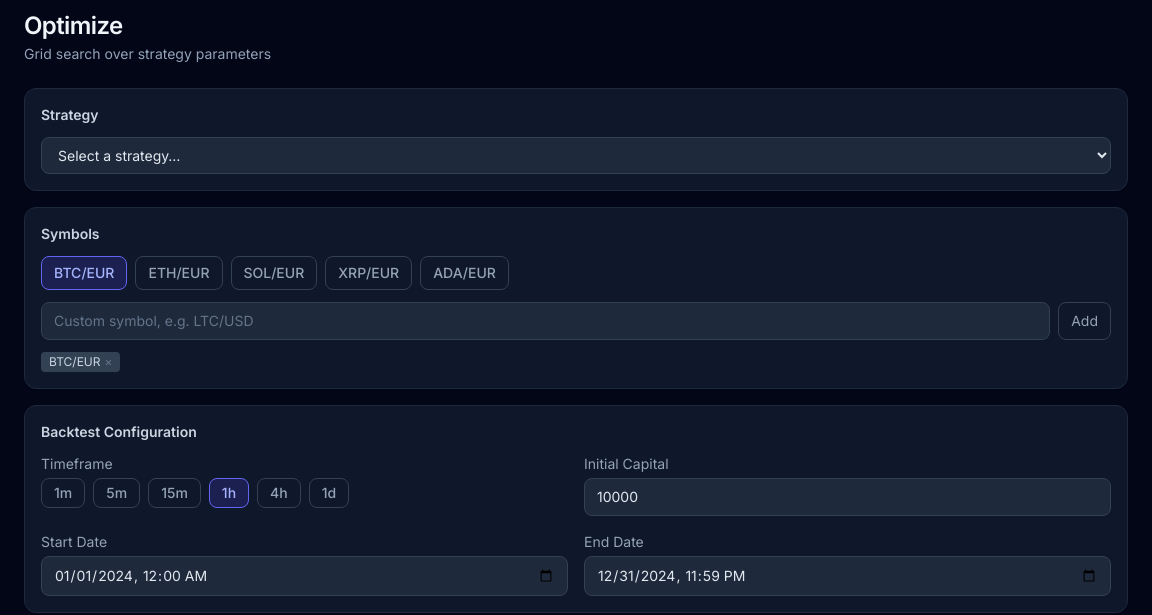
OptimizePage — structured 422 rendering (CF-13a-1 item 2) › renders invalid_exit_config with combo_index-scoped errors and total_invalid
The width and height of the screenshot is (1152, 615).
Select "momentum_breakout" in the 1st dropdown at (576, 156), box 41,137 -> 1111,174
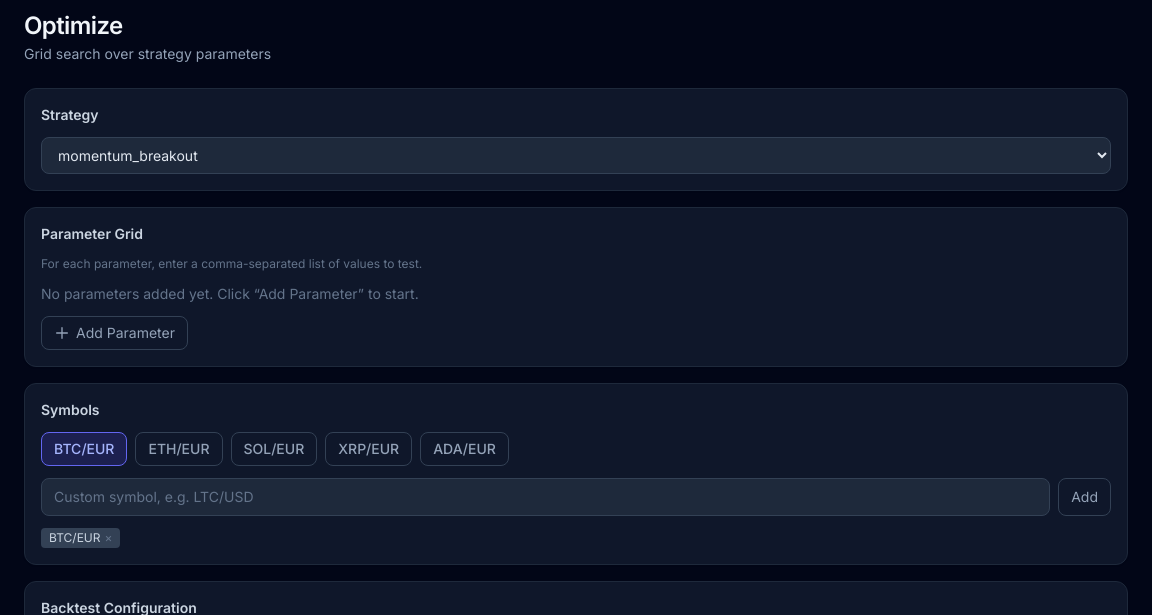
Now the button "Add Parameter" is enabled
Click the button "Add Parameter".
click(114, 333)  # box 41,316 -> 188,350
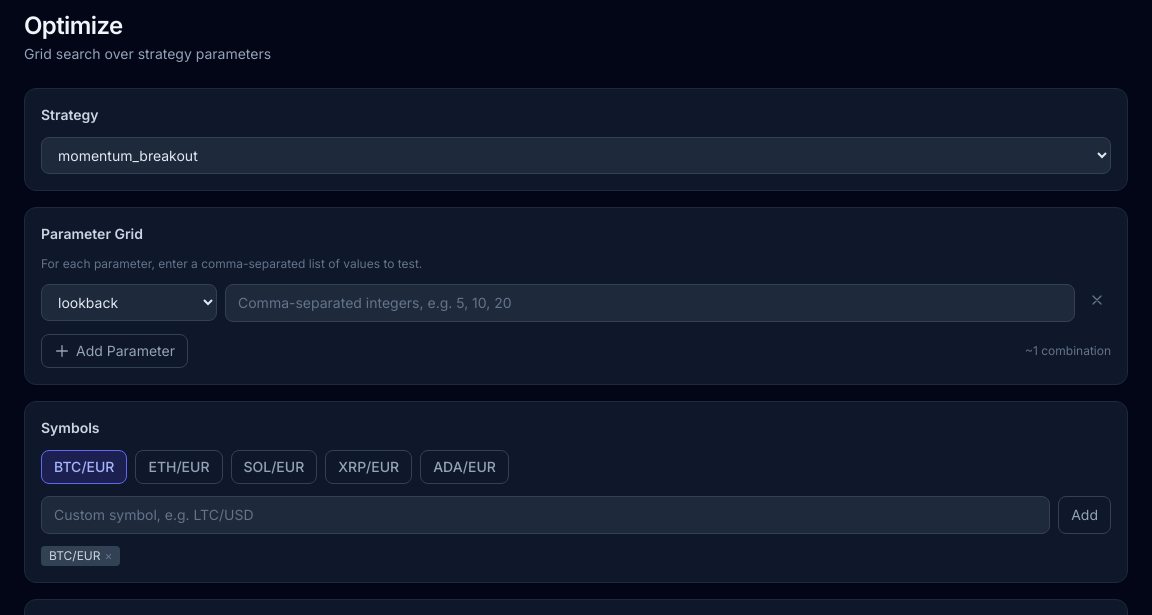
Type "5, 10" into the field with placeholder "Comma-separated integers, e.g. 5, 10, 20".
click(650, 303); type("5, 10")  # box 225,284 -> 1075,322
(page scrolled)
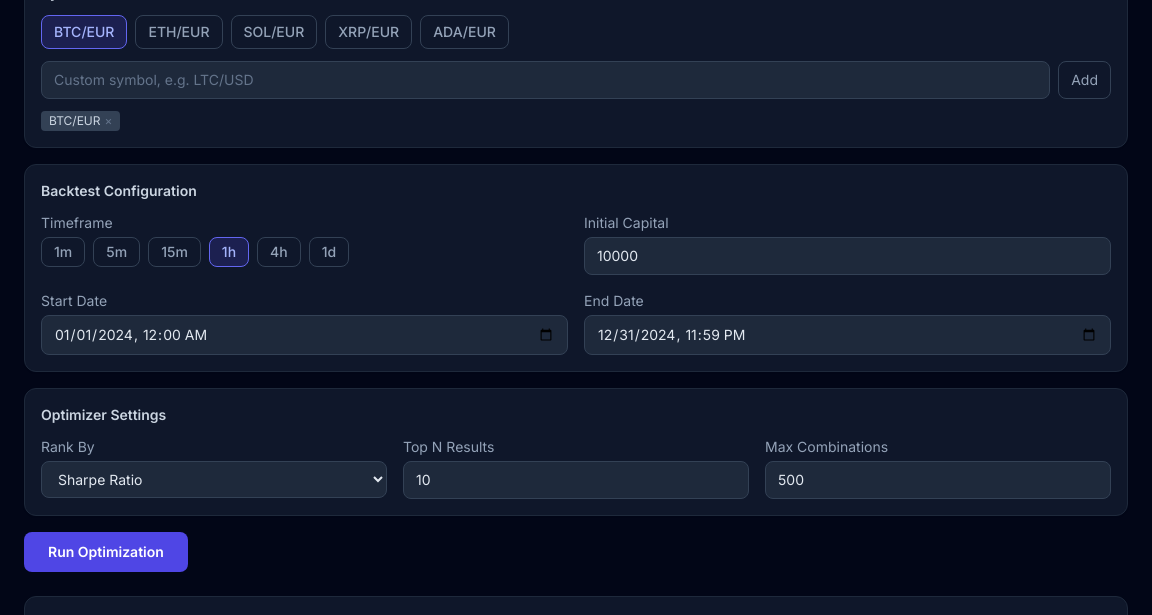
Click the button "Run Optimization".
click(106, 552)  # box 24,532 -> 188,572
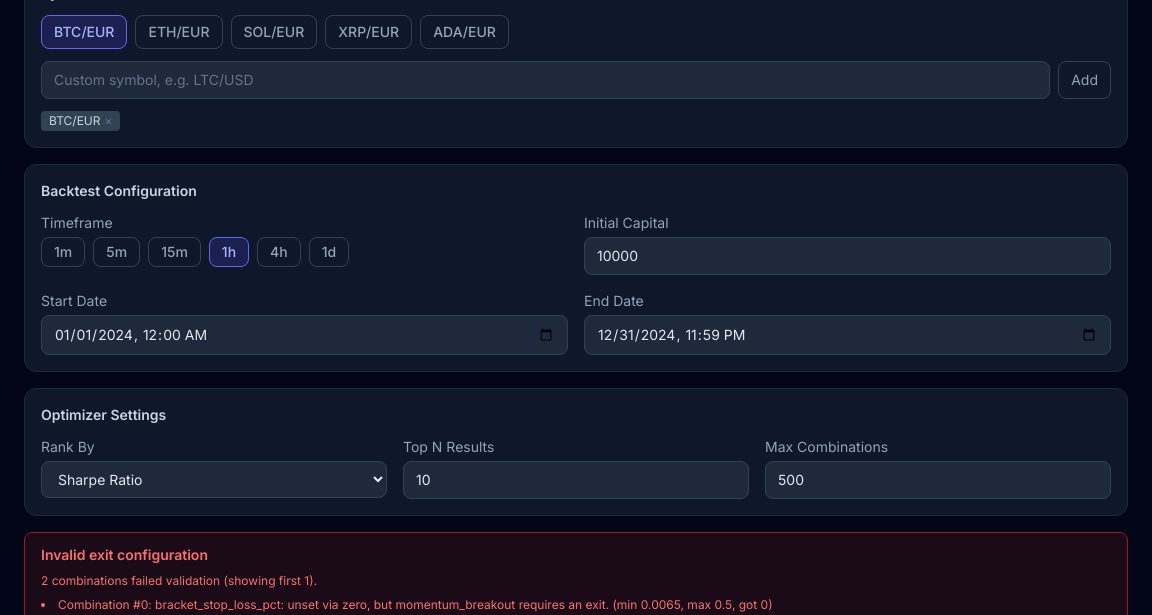
Now the text "Invalid exit configuration" is shown, box 41,546 -> 208,563
Now the text "2 combinations failed validation (showing first 1)." is shown, box 41,573 -> 317,588
Now the list item "Combination #0:" is shown, box 58,597 -> 772,612
